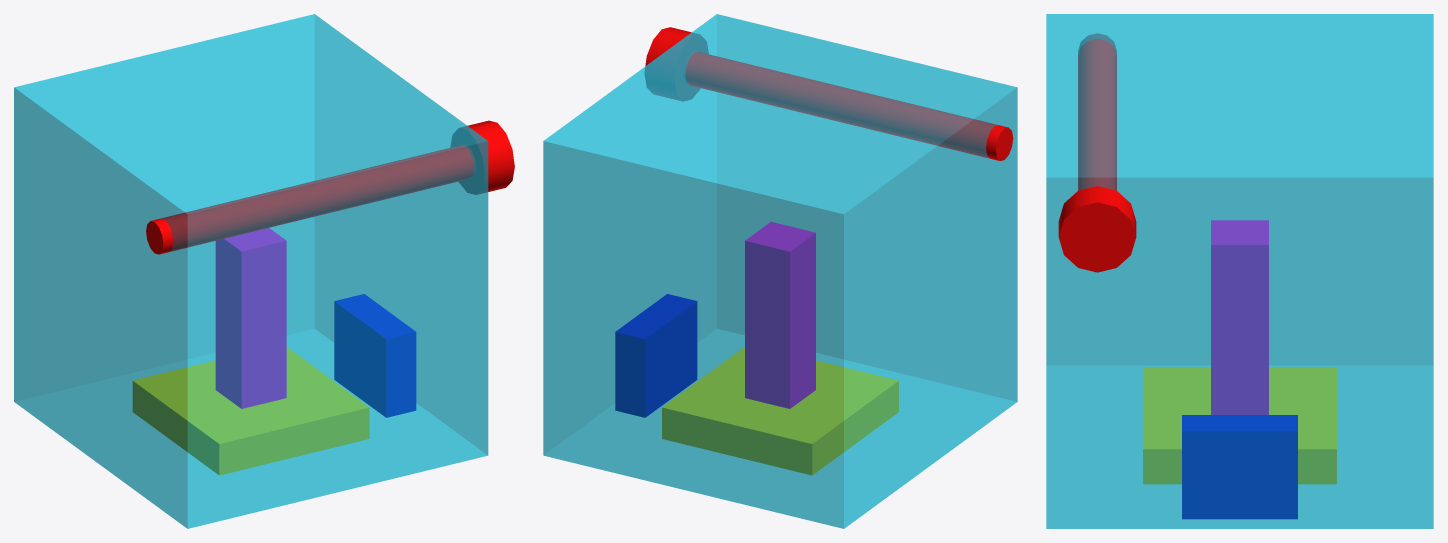
The model's file is cubo.glb.
3 views of the same model, side by side, from view 1: azimuth 30°, elevation 25°; view 2: azimuth 150°, elevation 25°; view 3: azimuth 270°, elevation 25° (orthographic). The views are drawn at different scales.
Parts seen in each view (by area): view 1: carcasa, Pieza_A, Pieza_D, Pieza_B, Pieza_C; view 2: carcasa, Pieza_A, Pieza_D, Pieza_B, Pieza_C; view 3: carcasa, Pieza_C, Pieza_A, Pieza_D, Pieza_B.
Boxes of the visible parts, x1,y1,x2,y2 form: carcasa: (14, 14, 488, 528); Pieza_A: (132, 347, 369, 475); Pieza_D: (146, 120, 514, 254); Pieza_B: (215, 228, 286, 408); Pieza_C: (334, 294, 416, 417); carcasa: (543, 14, 1017, 528); Pieza_A: (662, 347, 898, 475); Pieza_D: (644, 27, 1013, 160); Pieza_B: (745, 222, 815, 408); Pieza_C: (615, 294, 697, 417); carcasa: (1046, 14, 1433, 528); Pieza_C: (1182, 415, 1297, 519); Pieza_A: (1143, 367, 1336, 484); Pieza_D: (1058, 33, 1136, 272); Pieza_B: (1211, 220, 1268, 414).
Size of the model in its own units: 0.5793 by 0.508 by 0.508.
